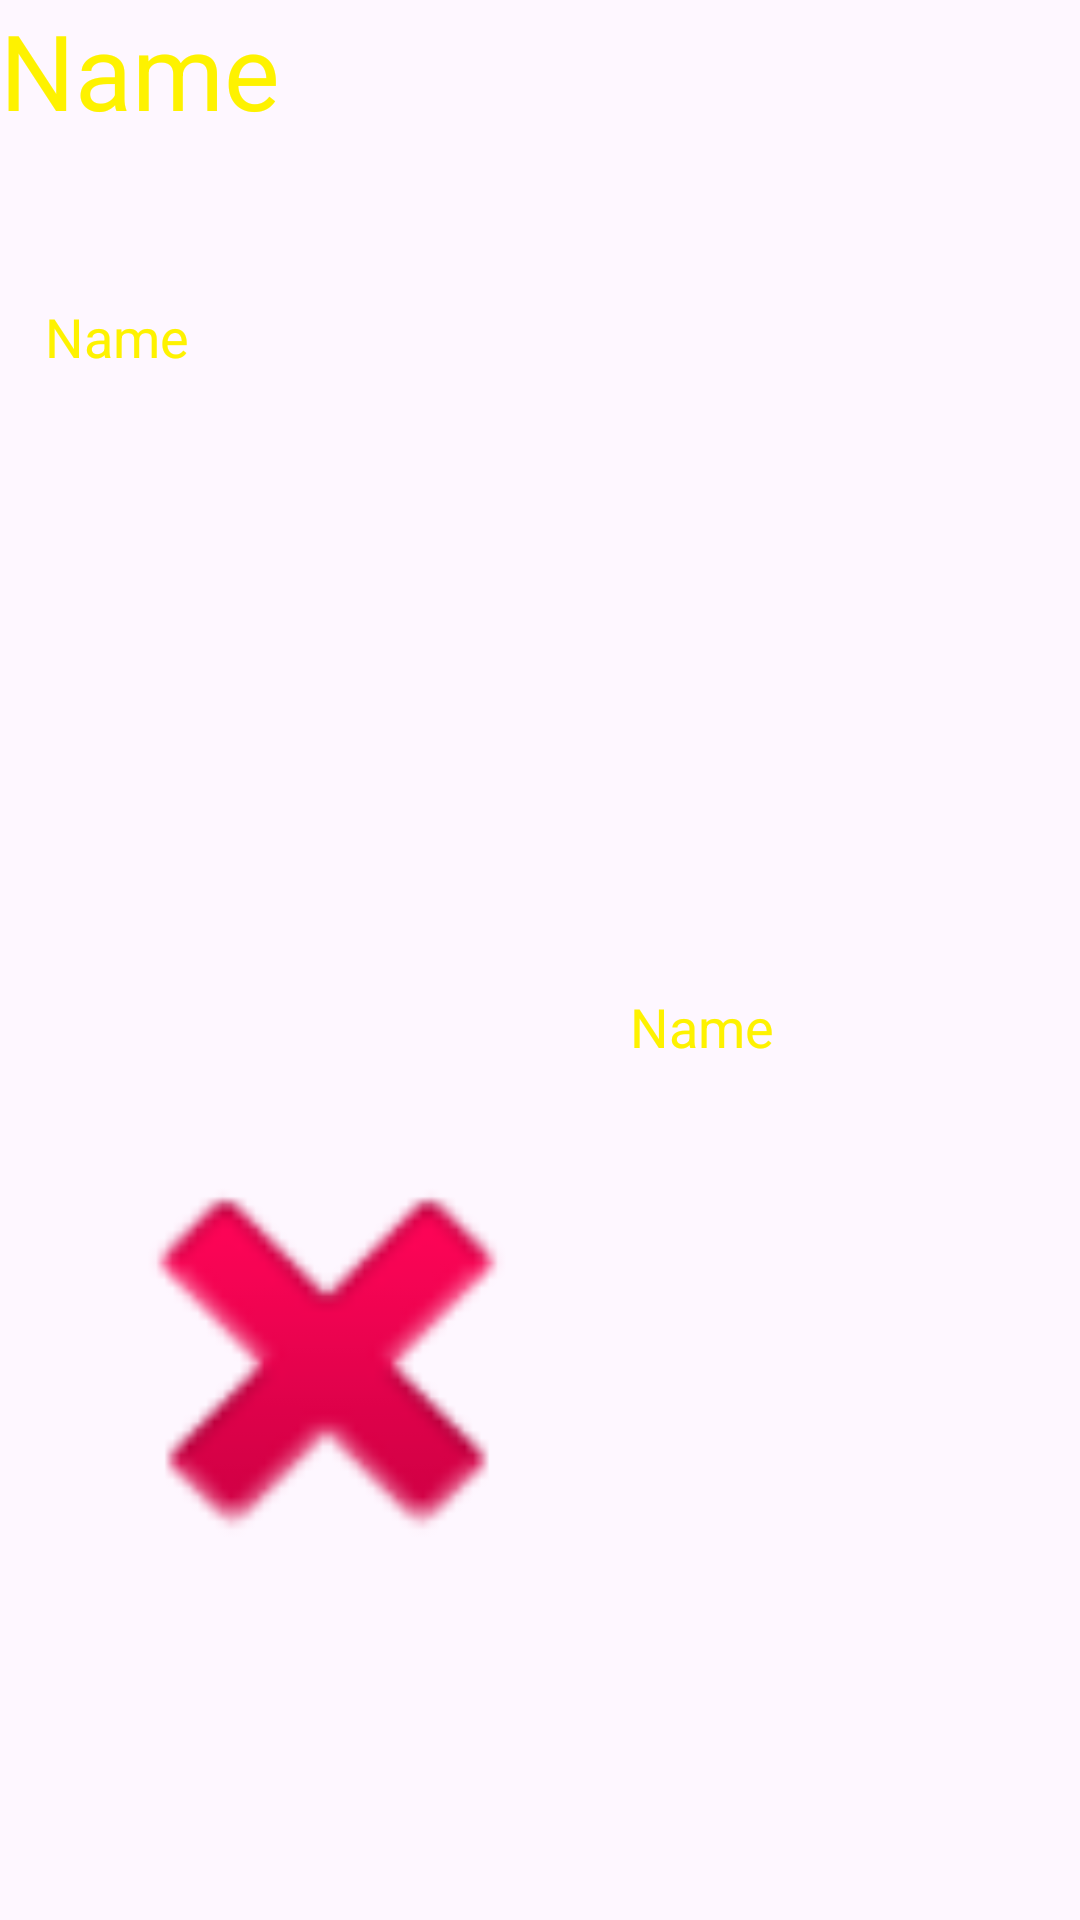

Where to tap for icons on this 1080w x 1920h app screen, as point (x, y):
delete: point (327, 1361)
